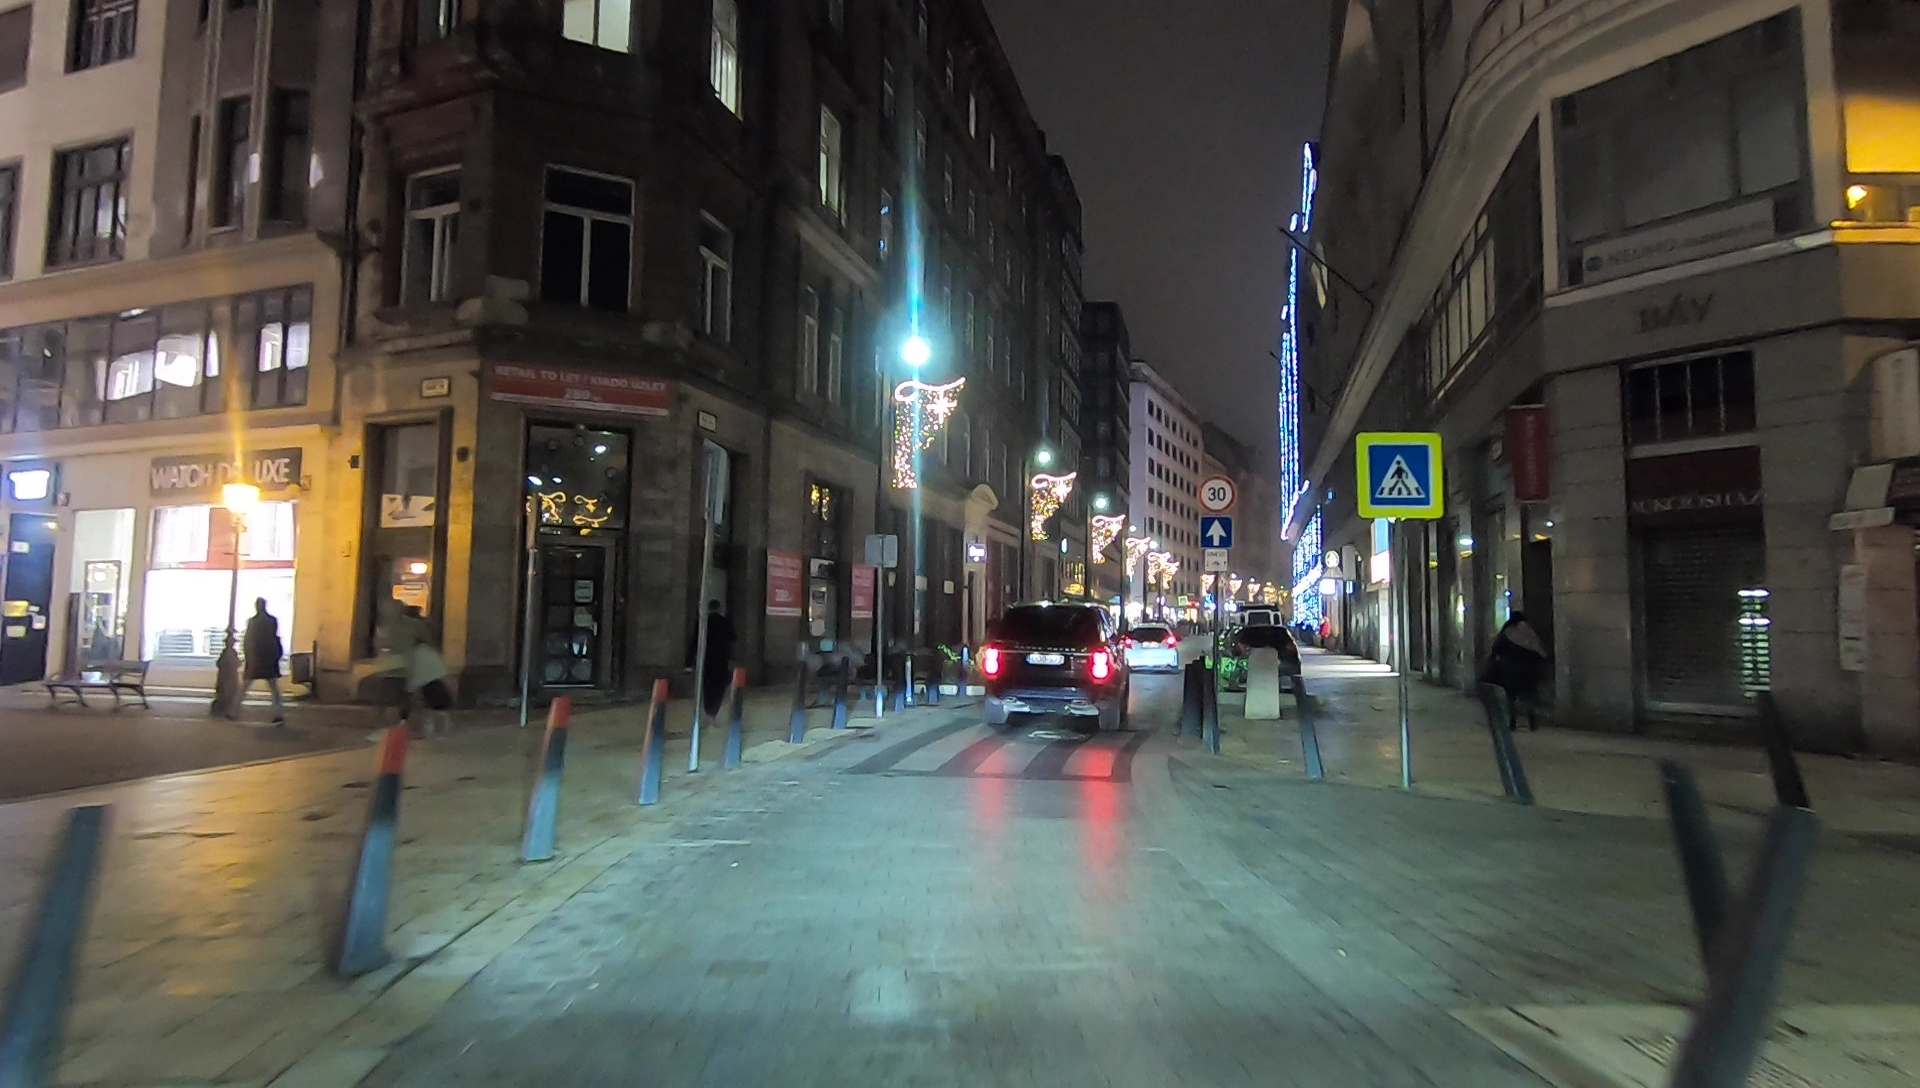person: (365, 597, 411, 742), (232, 595, 285, 720), (1492, 609, 1545, 730), (685, 601, 731, 734), (412, 609, 453, 737)
